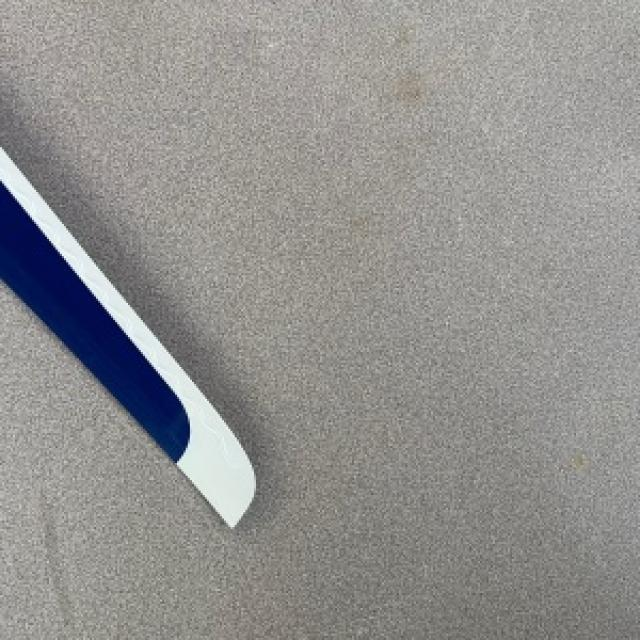healthy: (0, 147, 254, 523)
